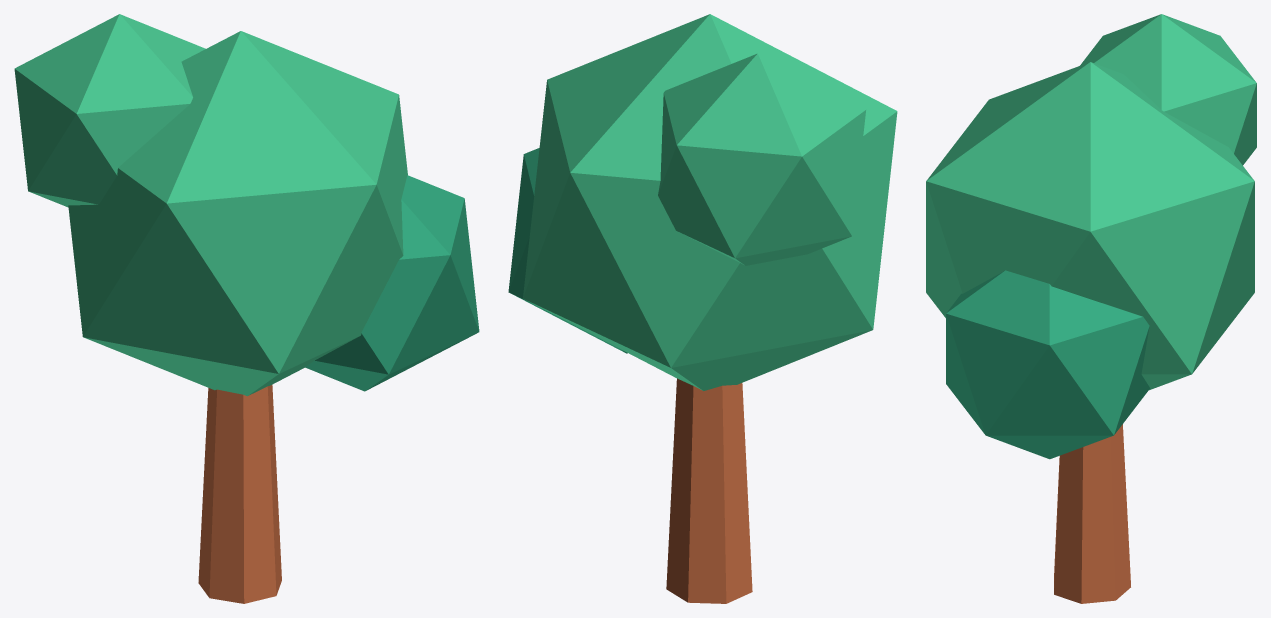
The model's file is prop_tree_round.glb.
3 renders of one model, left to right at view 1: azimuth 30°, elevation 25°; view 2: azimuth 150°, elevation 25°; view 3: azimuth 270°, elevation 25°, orthographic. The views are drawn at different scales.
Parts seen in each view (by area): view 1: prop_tree_round; view 2: prop_tree_round; view 3: prop_tree_round.
Boxes of the visible parts, x1,y1,x2,y2 form: prop_tree_round: [14, 14, 479, 603]; prop_tree_round: [508, 14, 897, 603]; prop_tree_round: [926, 14, 1256, 603].
Size of the model in its own units: 2.03 by 2.9 by 1.63.
